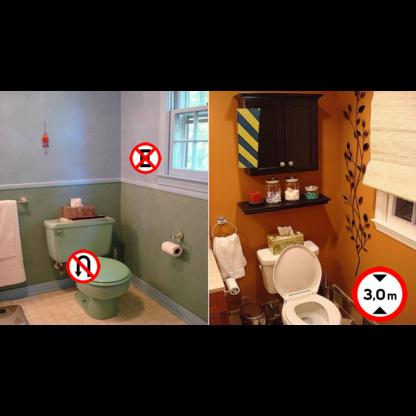O-MP: (237, 108, 260, 168)
R-15: (352, 266, 408, 322)
R-5a: (66, 249, 100, 283)
R-6c: (129, 142, 161, 174)
